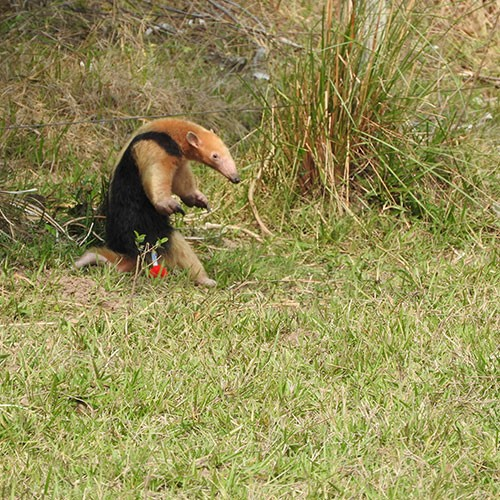TamanduaBandeira: (72, 117, 244, 295)
